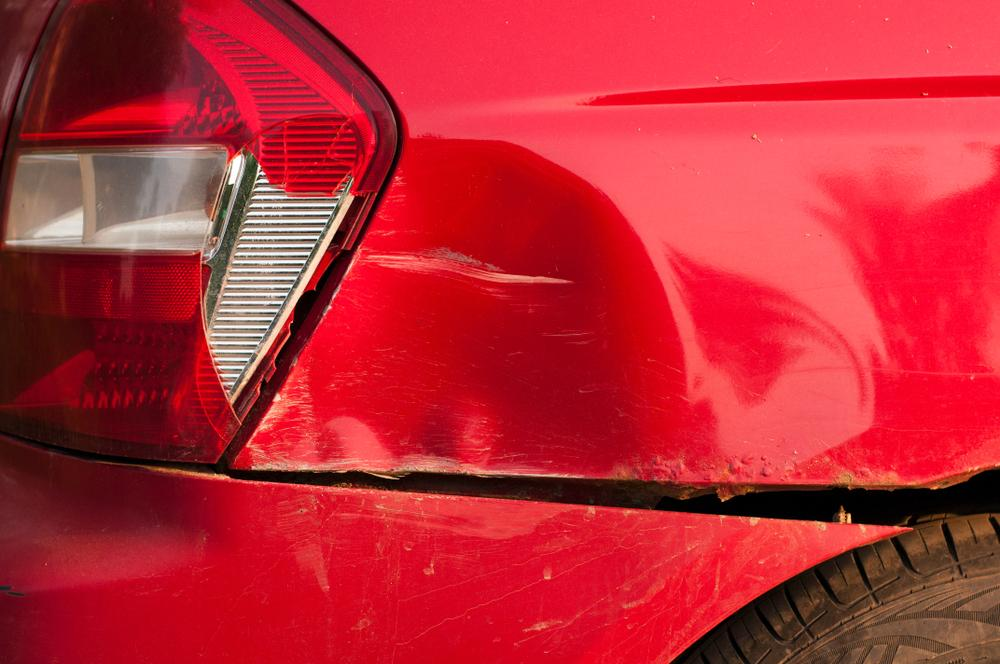dent: (236, 136, 665, 479)
lamp broken: (0, 0, 412, 466)
